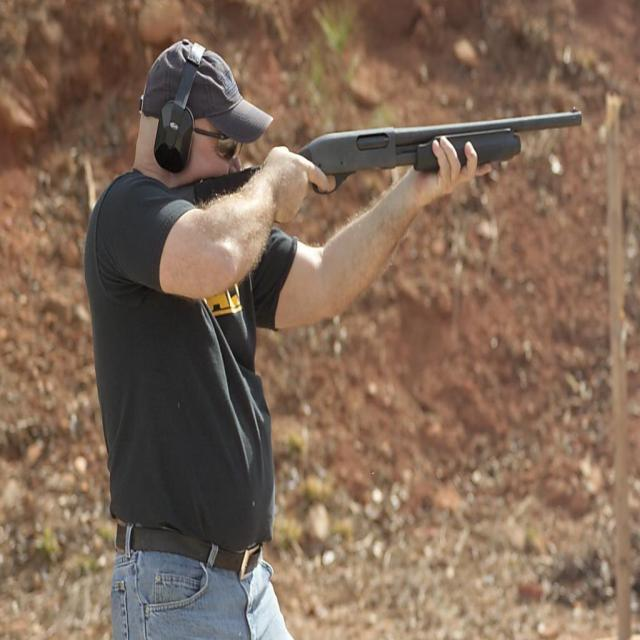weapon: (169, 106, 582, 206)
